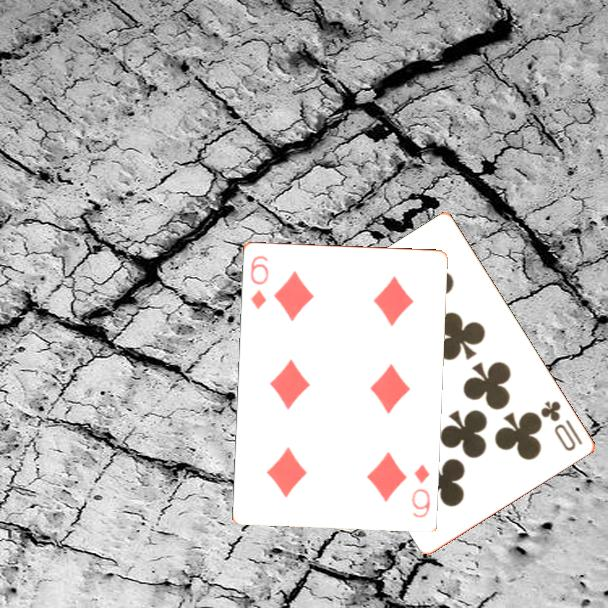c10: (537, 397, 586, 454)
d06: (246, 252, 271, 312), (408, 461, 432, 520)
